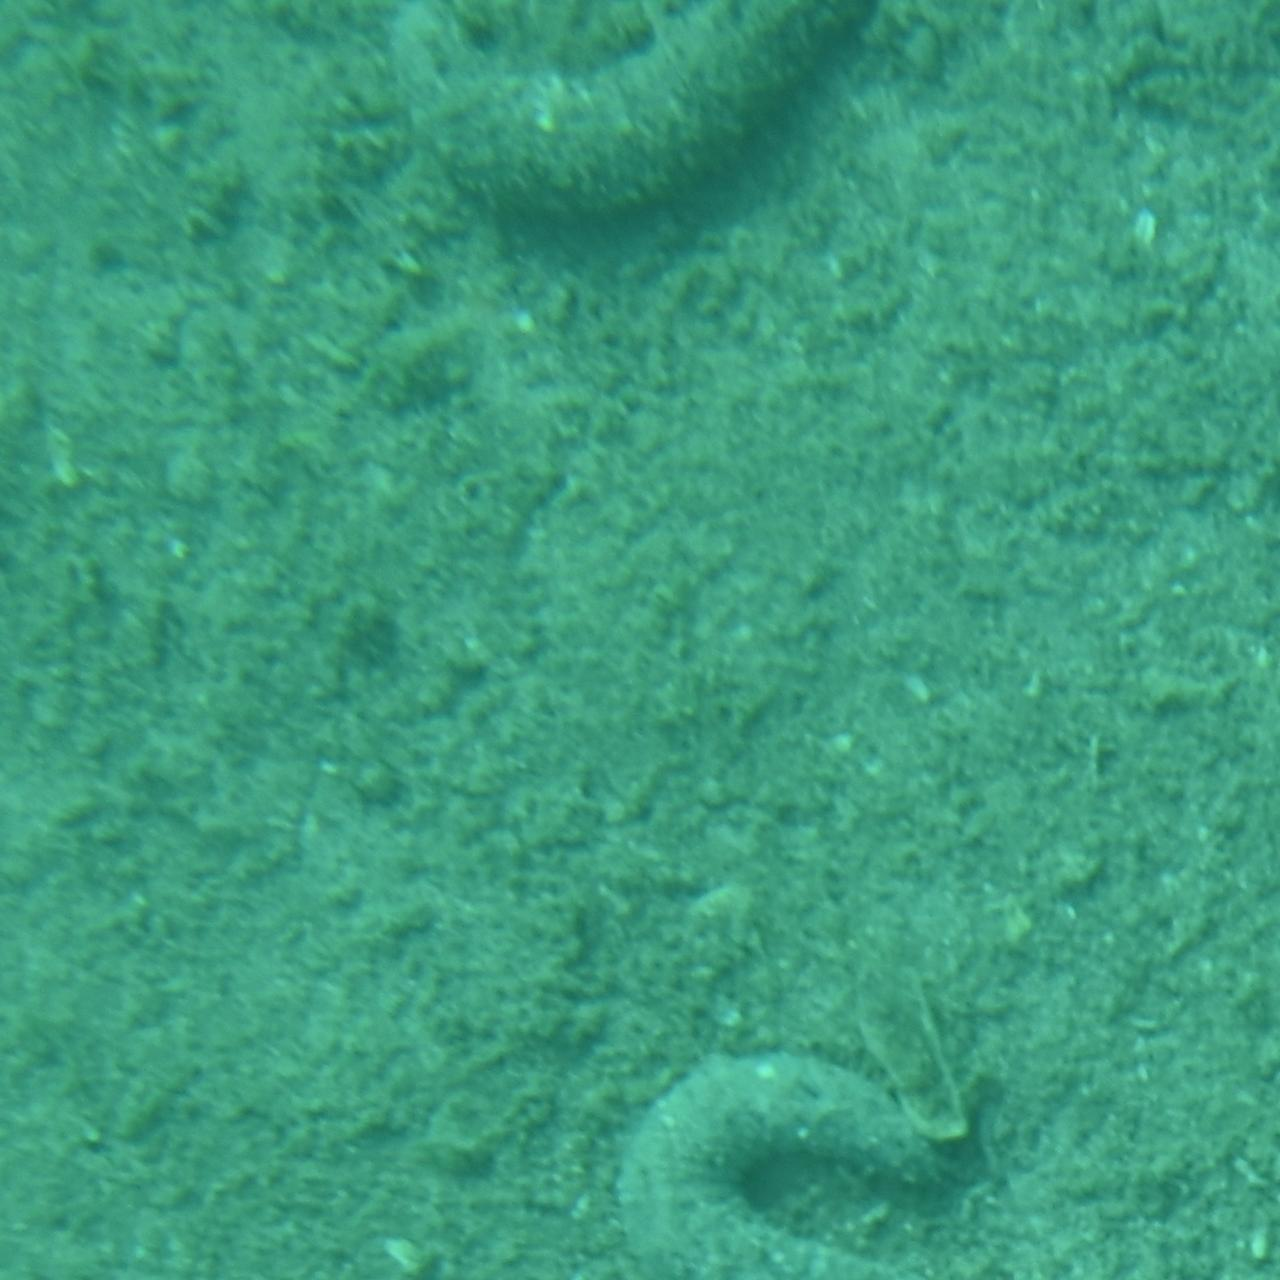Holothuria tubulosa: (395, 0, 885, 238)
